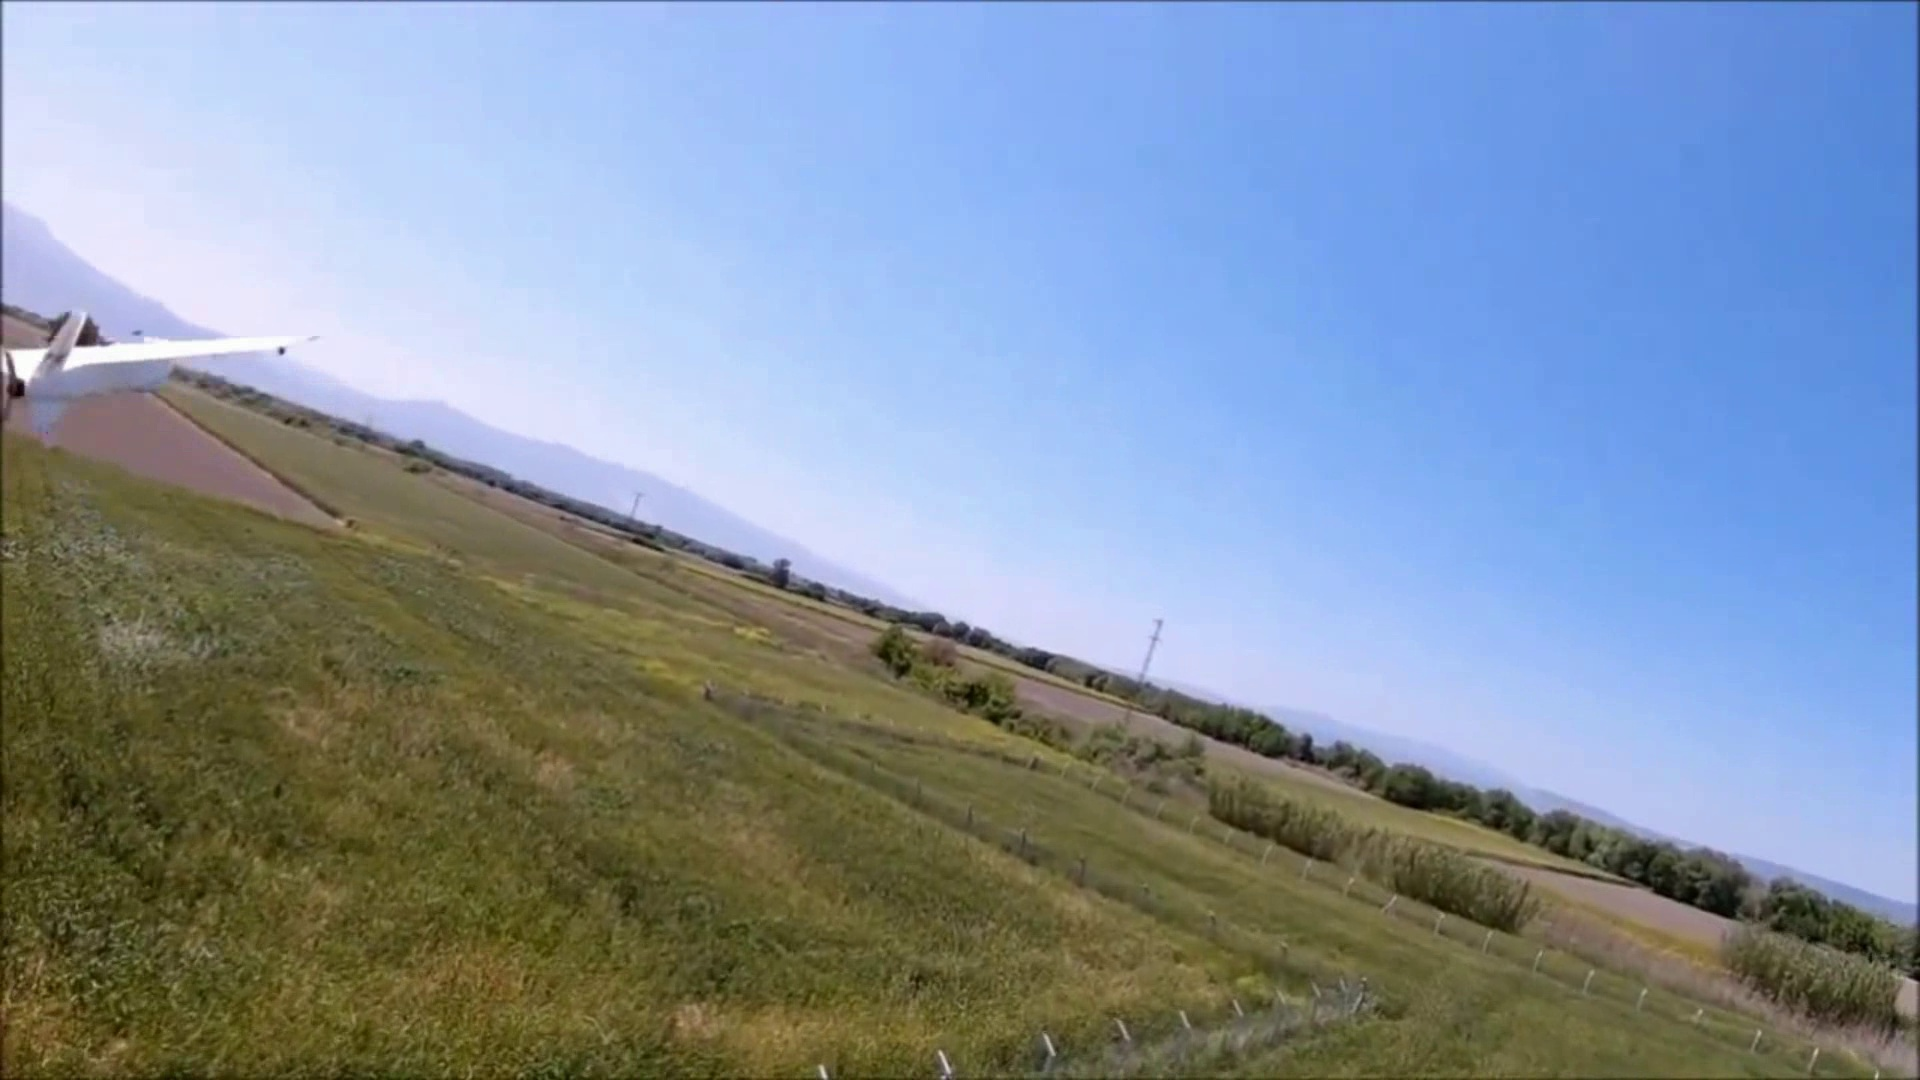airplane: (0, 304, 311, 434)
